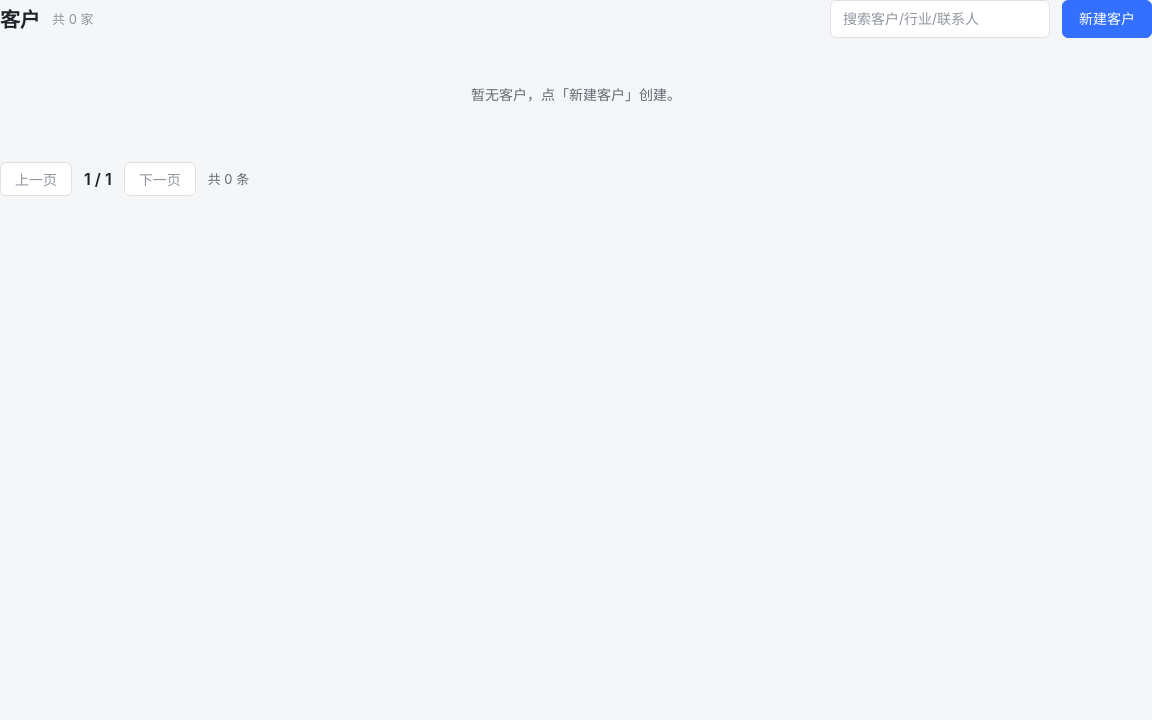
Test: CustomerPage (客户 CRUD) › blocks save when name is empty (TC-CUS-FE-03)
Click the button with test id "customers-new-btn". click: coordinates (1107, 19)
box: [1062,0,1151,38]
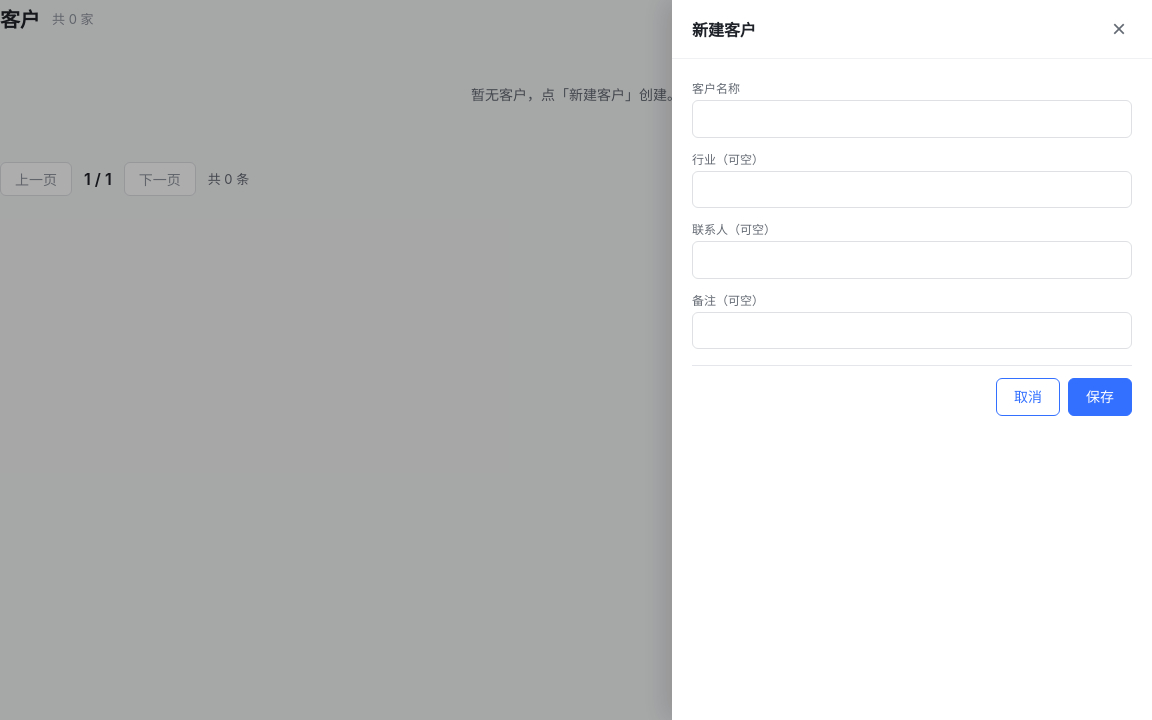
Expected: the button with test id "customer-save" is shown
Click the button with test id "customer-save". click: coordinates (1100, 397)
box: [1068,378,1132,416]
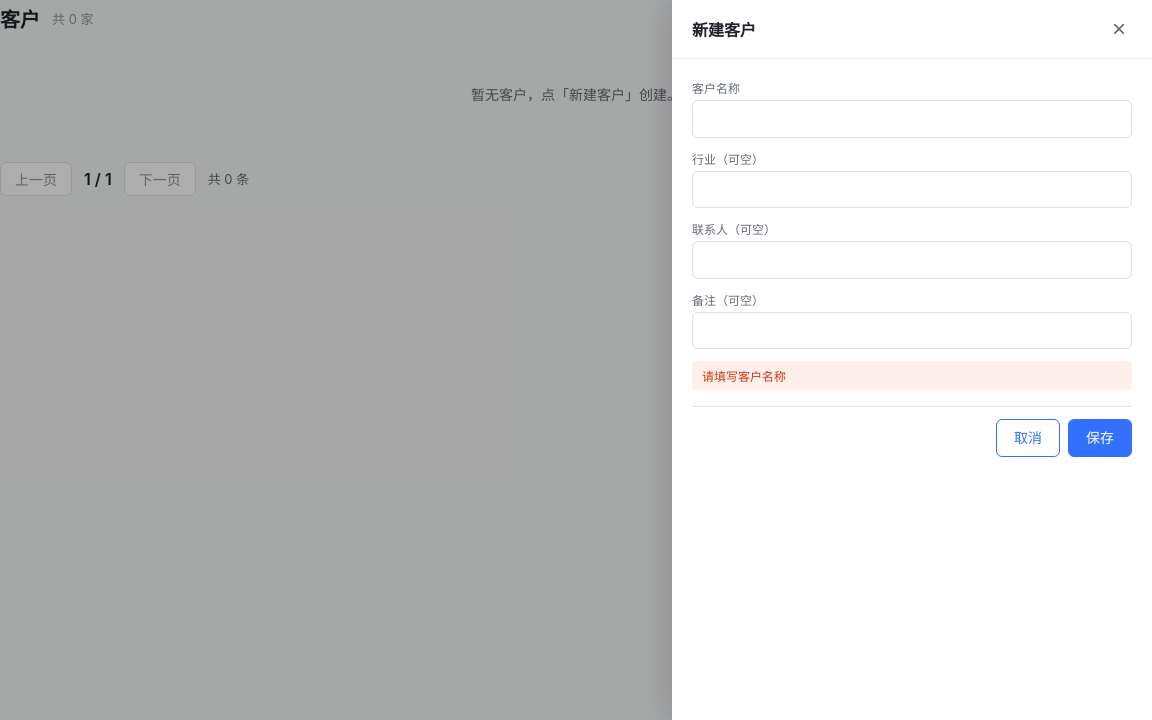
Expected: the text "请填写客户名称" is shown, [692,361,1132,390]
